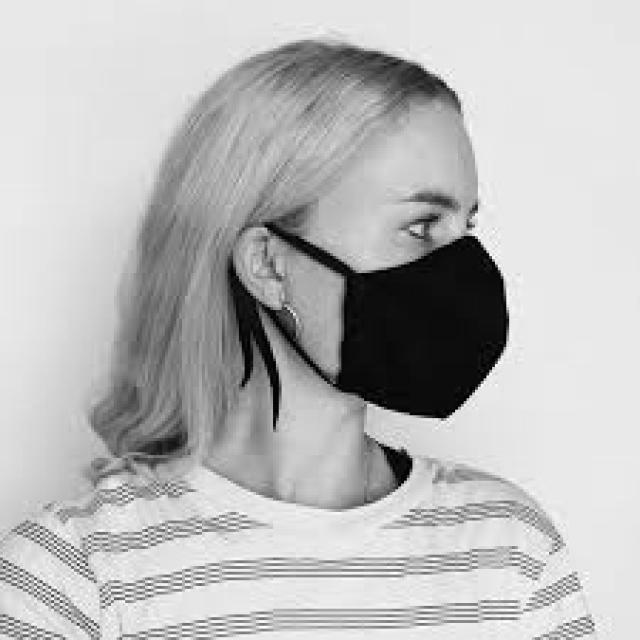fake: (303, 235, 513, 423)
real: (319, 107, 484, 431)
